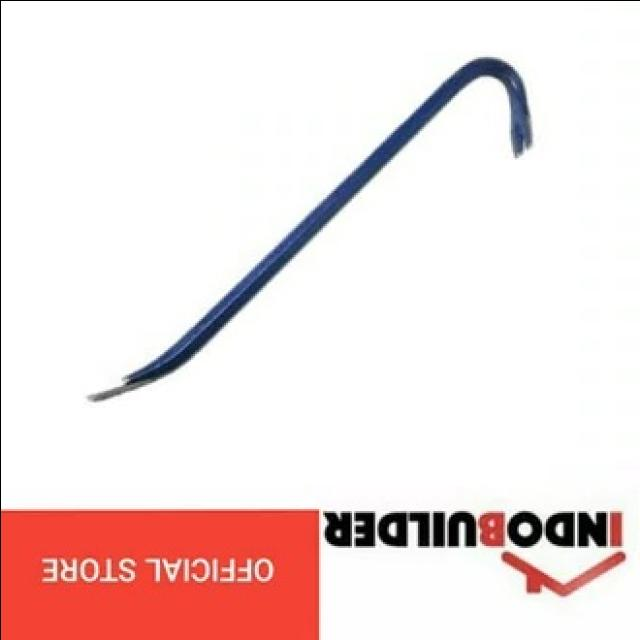Linggis: (85, 59, 533, 402)
